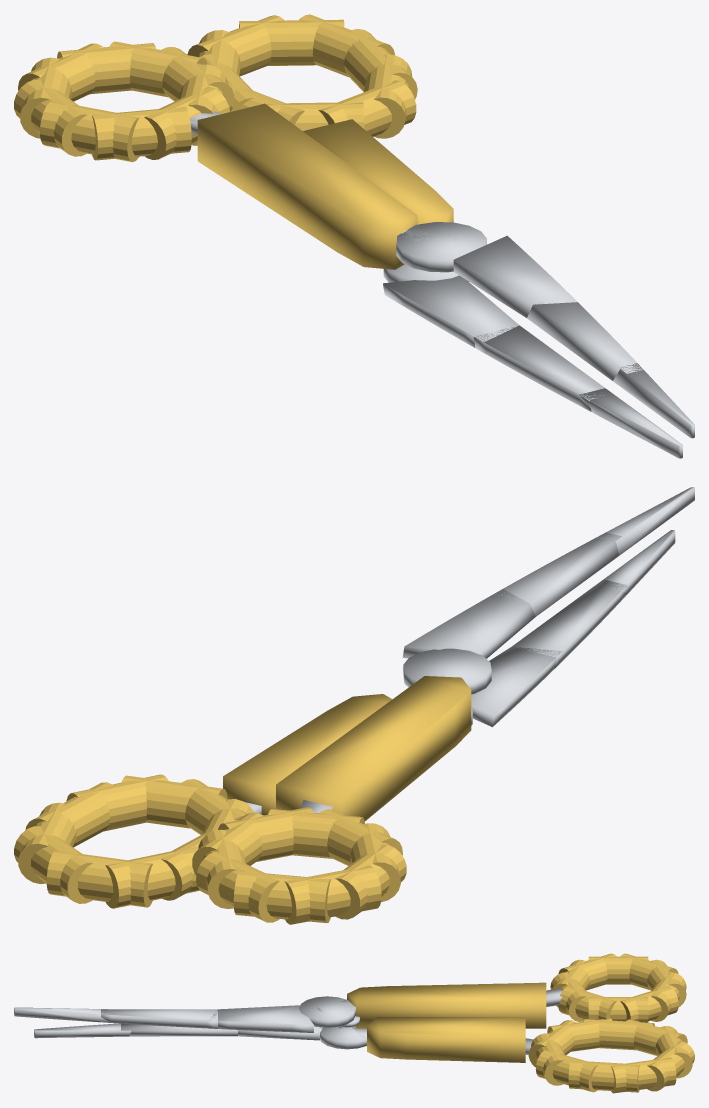
File: scissors.glb
3 views of the same model, one above another, from view 1: azimuth 30°, elevation 25°; view 2: azimuth 150°, elevation 25°; view 3: azimuth 270°, elevation 25° (orthographic). The views are drawn at different scales.
Parts seen in each view (by area): view 1: Blade_B, Blade_A, Cylinder.017, Cylinder.018, Cylinder.001, Cylinder.007, Cylinder.002, Cylinder.012, Cylinder.019, Cylinder, Cylinder.013, Cylinder.016 (+10 smaller); view 2: Blade_B, Blade_A, Cylinder.002, Cylinder.011, Cylinder.010, Cylinder.003, Cylinder.001, Cylinder.007, Cylinder.012, Cylinder.008, Cylinder.009, Cylinder.016 (+9 smaller); view 3: Blade_B, Blade_A, Cylinder.009, Cylinder, Cylinder.004, Cylinder.008, Cylinder.014, Cylinder.013, Cylinder.001, Cylinder.005, Cylinder.015, Cylinder.003 (+10 smaller).
Boxes of the visible parts, x1,y1,x2,y2 form: Blade_B: [190, 103, 694, 438]; Blade_A: [303, 119, 682, 458]; Cylinder.017: [92, 107, 191, 160]; Cylinder.018: [40, 101, 139, 162]; Cylinder.001: [239, 19, 344, 65]; Cylinder.007: [318, 80, 416, 136]; Cylinder.002: [187, 15, 284, 76]; Cylinder.012: [57, 43, 156, 94]; Cylinder.019: [14, 79, 87, 156]; Cylinder: [299, 14, 394, 77]; Cylinder.013: [109, 41, 207, 97]; Cylinder.016: [144, 87, 229, 159]; Blade_B: [276, 487, 694, 821]; Blade_A: [223, 530, 675, 815]; Cylinder.002: [46, 850, 152, 907]; Cylinder.011: [233, 871, 330, 922]; Cylinder.010: [284, 865, 381, 924]; Cylinder.003: [105, 847, 199, 908]; Cylinder.001: [14, 826, 92, 903]; Cylinder.007: [121, 775, 227, 828]; Cylinder.012: [196, 852, 279, 922]; Cylinder.008: [66, 774, 168, 831]; Cylinder.009: [25, 782, 112, 847]; Cylinder.016: [268, 809, 364, 858]; Blade_B: [14, 982, 562, 1032]; Blade_A: [34, 1016, 533, 1062]; Cylinder.009: [568, 1060, 639, 1092]; Cylinder: [611, 1057, 676, 1093]; Cylinder.004: [584, 1019, 654, 1050]; Cylinder.008: [535, 1050, 597, 1092]; Cylinder.014: [588, 997, 648, 1022]; Cylinder.013: [620, 986, 678, 1021]; Cylinder.001: [647, 1041, 694, 1091]; Cylinder.005: [547, 1018, 612, 1051]; Cylinder.015: [558, 986, 616, 1019]; Cylinder.003: [626, 1019, 687, 1055].
Bounding box in the file's own units: 0.0781 × 0.0128 × 0.2044.
